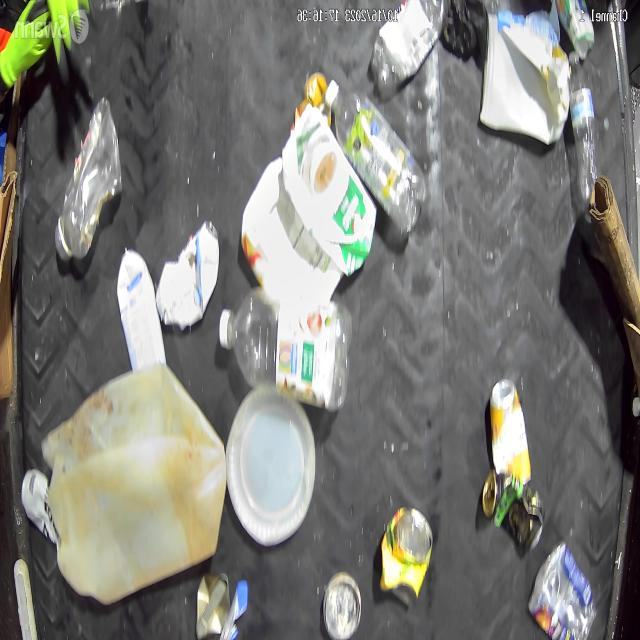can: (378, 495, 441, 611), (481, 472, 544, 550), (491, 376, 531, 480), (321, 569, 360, 637)
milk_jug: (50, 360, 223, 598)
plastic_bottle: (319, 70, 426, 236), (225, 280, 346, 410), (56, 99, 121, 261), (367, 0, 449, 89), (566, 48, 597, 218)
